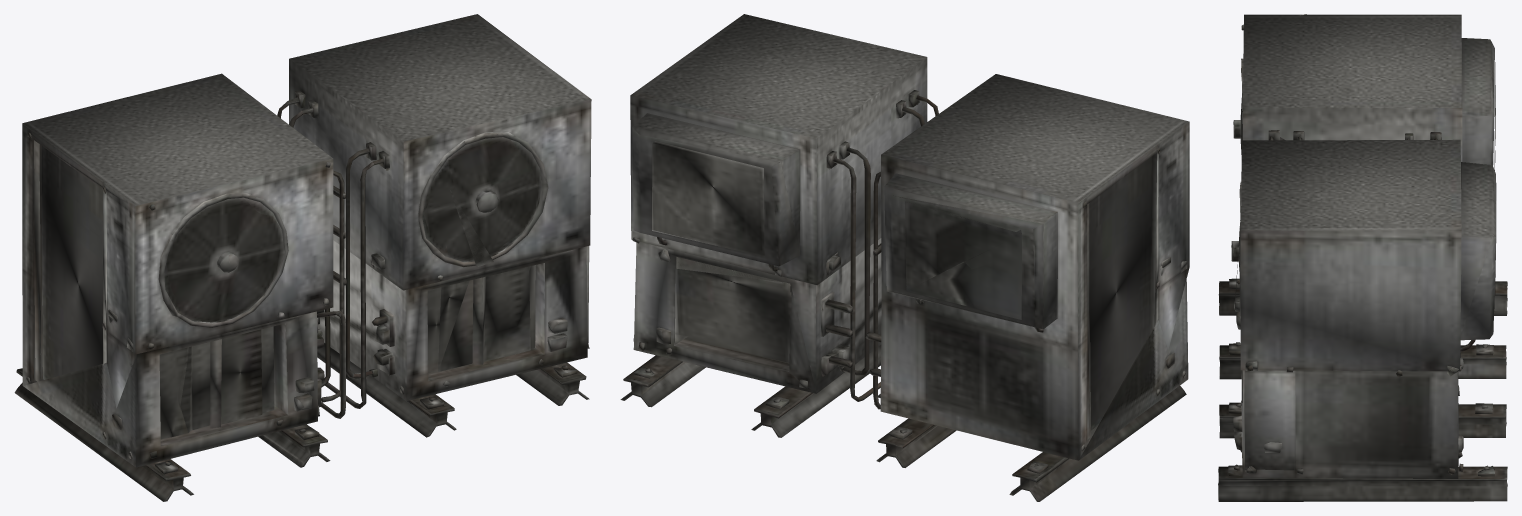
The model's file is rooftop_ac.glb.
The picture shows the model from 3 angles, left to right: view 1: azimuth 30°, elevation 25°; view 2: azimuth 150°, elevation 25°; view 3: azimuth 270°, elevation 25°; orthographic projection. The views are drawn at different scales.
Bounding box in the file's own units: 1 × 0.6127 × 0.5728.
1 material, 1 textured.
